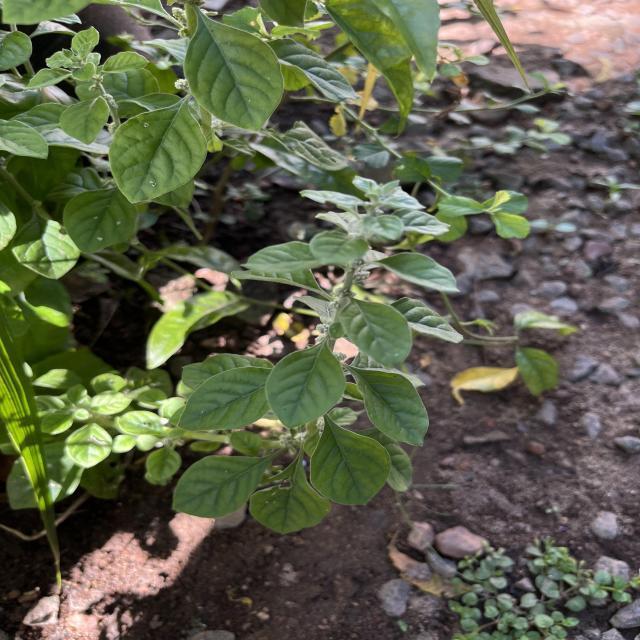Aerva lanata: (308, 419, 393, 508), (262, 342, 348, 429), (172, 363, 272, 432), (349, 365, 432, 448)
